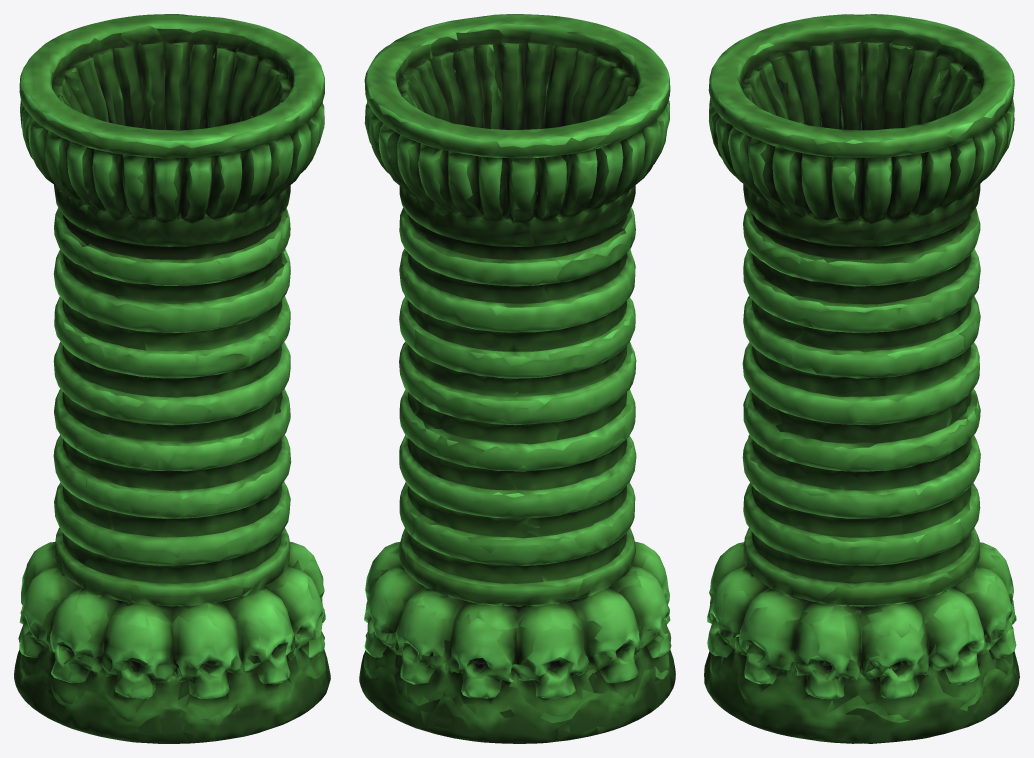
File: COL1A0.obj
3 renders of one model, left to right at view 1: azimuth 30°, elevation 25°; view 2: azimuth 150°, elevation 25°; view 3: azimuth 270°, elevation 25°, orthographic.
Bounding box in the file's own units: 0.4781 × 1 × 0.4779.
Materials: 1 (1 with a texture image).
